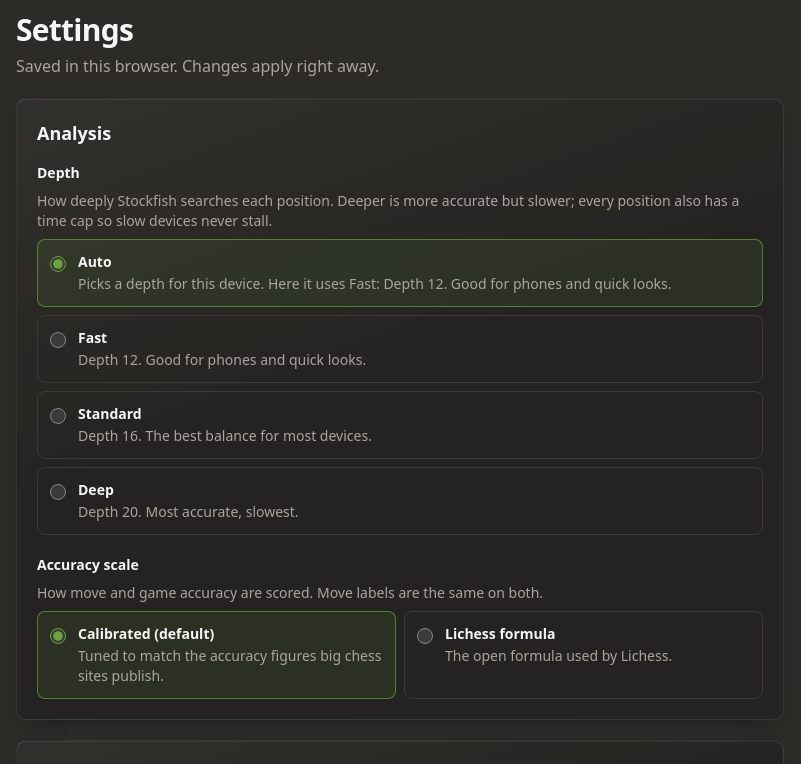
Test: SettingsPage analysis › switches the accuracy scale
Check: the radio button labelled "Calibrated (default)" is checked, box [50,628,66,644]
Check: the text "Tuned to match the accuracy figures big chess sites publish." is shown, box [78,646,383,686]
Click the radio button labelled "Lichess formula The open formula used by Lichess." at (425, 636), box [417,628,433,644]
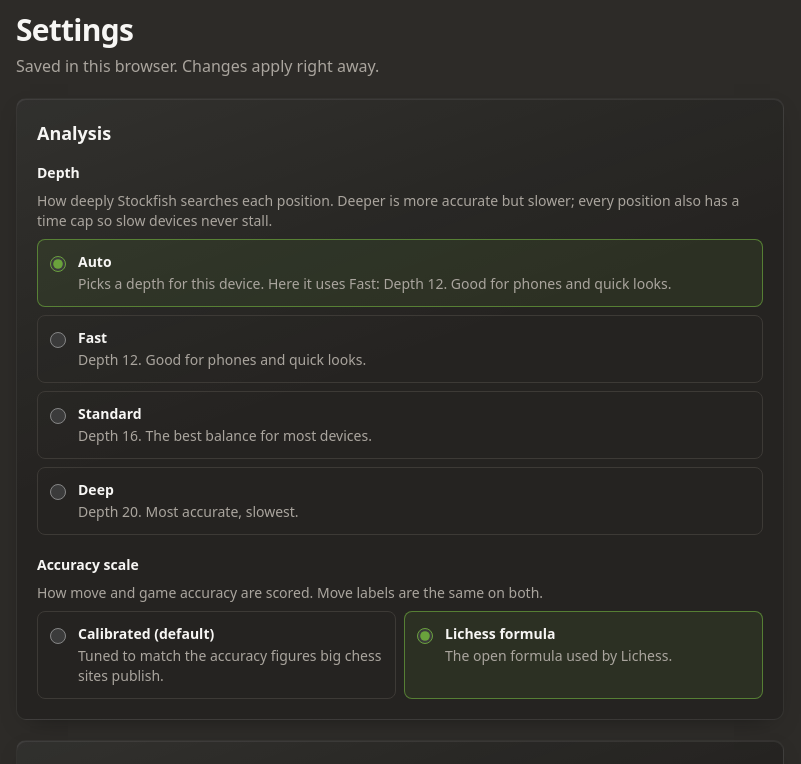
Check: the radio button labelled "Calibrated (default)" is not checked, box [50,628,66,644]
